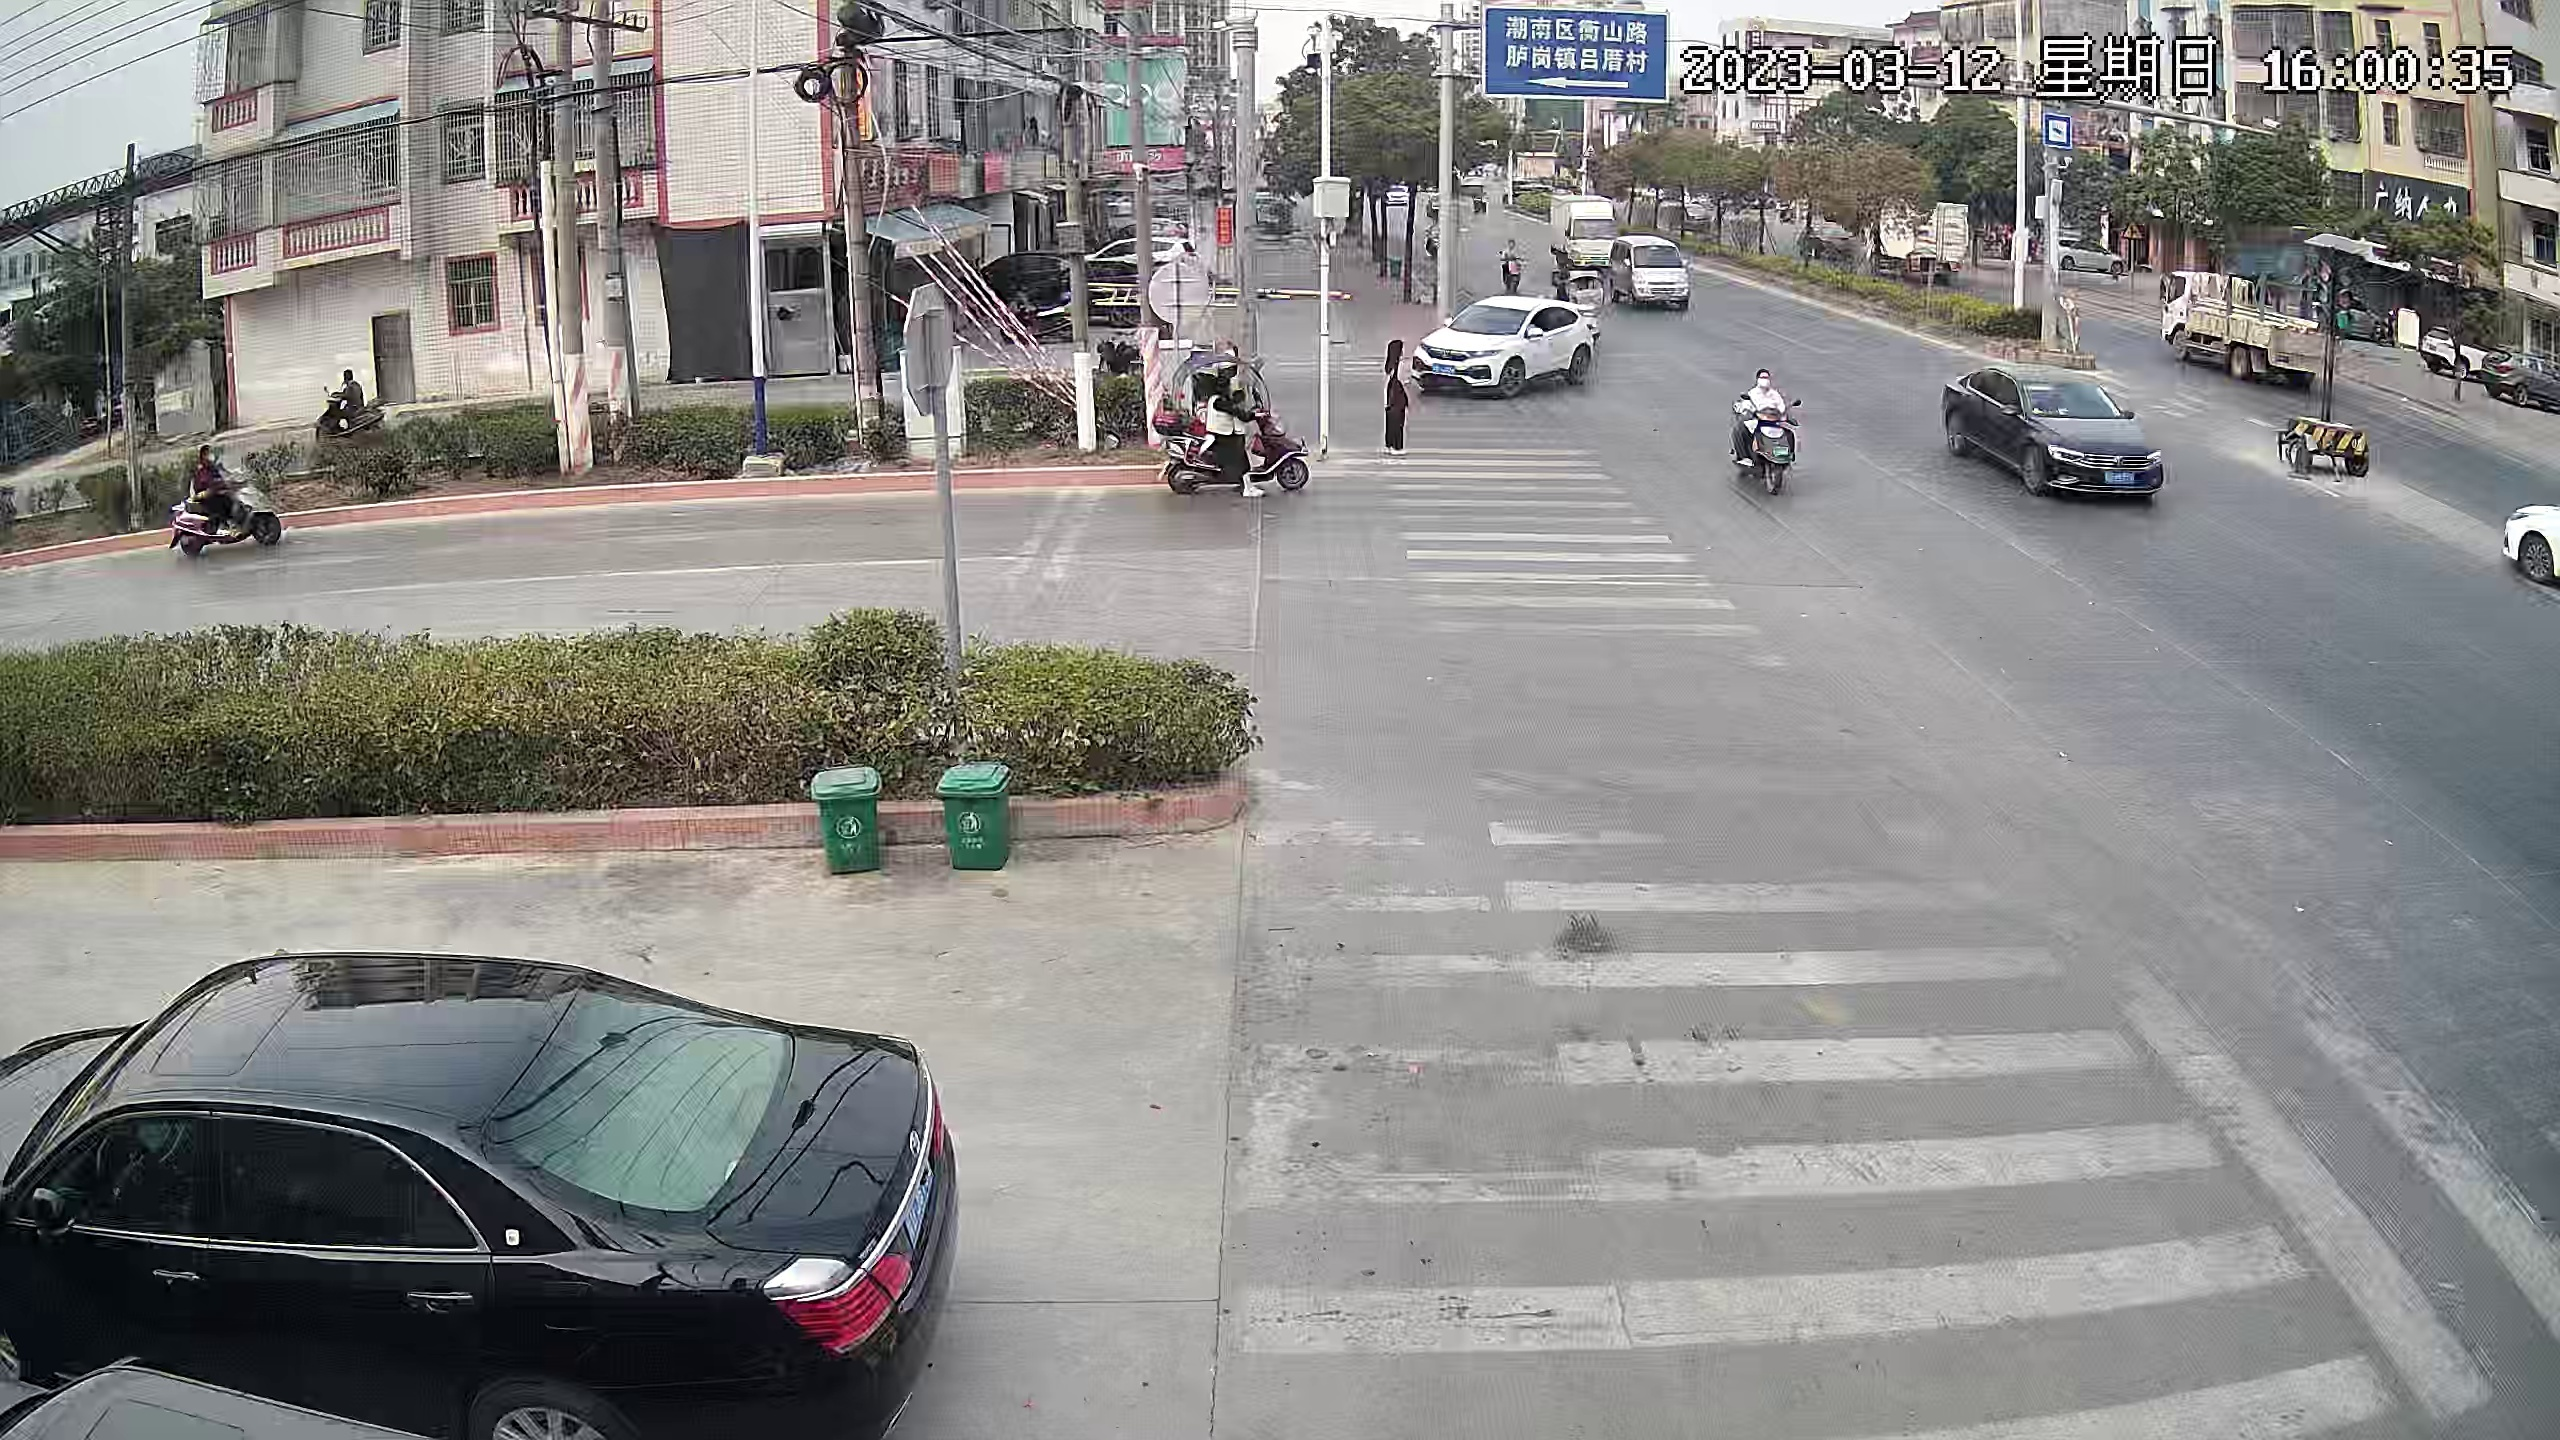motorcycle: (1157, 347, 1317, 510), (160, 444, 283, 548), (1724, 369, 1803, 502), (297, 363, 389, 447), (1004, 298, 1079, 343), (1498, 235, 1524, 292), (1563, 265, 1600, 305), (1424, 219, 1447, 268)
person: (1205, 365, 1265, 507), (1369, 339, 1417, 465)
sedan: (3, 959, 953, 1423), (1943, 364, 2177, 518), (2503, 499, 2560, 587), (989, 249, 1077, 298), (2048, 235, 2122, 283), (1103, 240, 1189, 277), (2320, 293, 2379, 345), (1805, 224, 1850, 265), (1384, 182, 1408, 212)
suv: (1428, 290, 1594, 397), (2490, 347, 2560, 418), (2420, 322, 2480, 380)
truck: (2157, 263, 2329, 394), (1875, 199, 1970, 275), (1558, 193, 1617, 267)
van: (1619, 234, 1697, 313)
